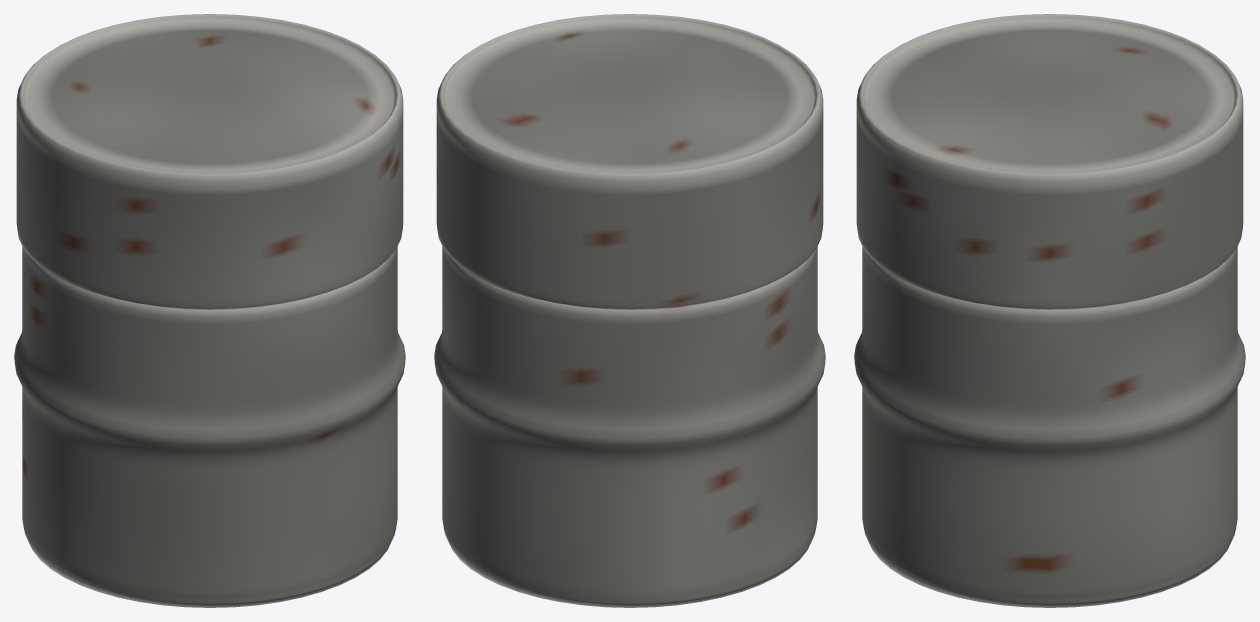
File: tea-caddy.glb
The picture shows the model from 3 angles, left to right: view 1: azimuth 30°, elevation 25°; view 2: azimuth 150°, elevation 25°; view 3: azimuth 270°, elevation 25°; orthographic projection.
Visible parts, largest first — view 1: tea-caddy; view 2: tea-caddy; view 3: tea-caddy.
Part boxes in pixels (bbox=[...]): tea-caddy: bbox=[14, 14, 405, 607]; tea-caddy: bbox=[434, 14, 825, 607]; tea-caddy: bbox=[854, 14, 1245, 607].
Size of the model in its own units: 0.0834 by 0.105 by 0.0834.
